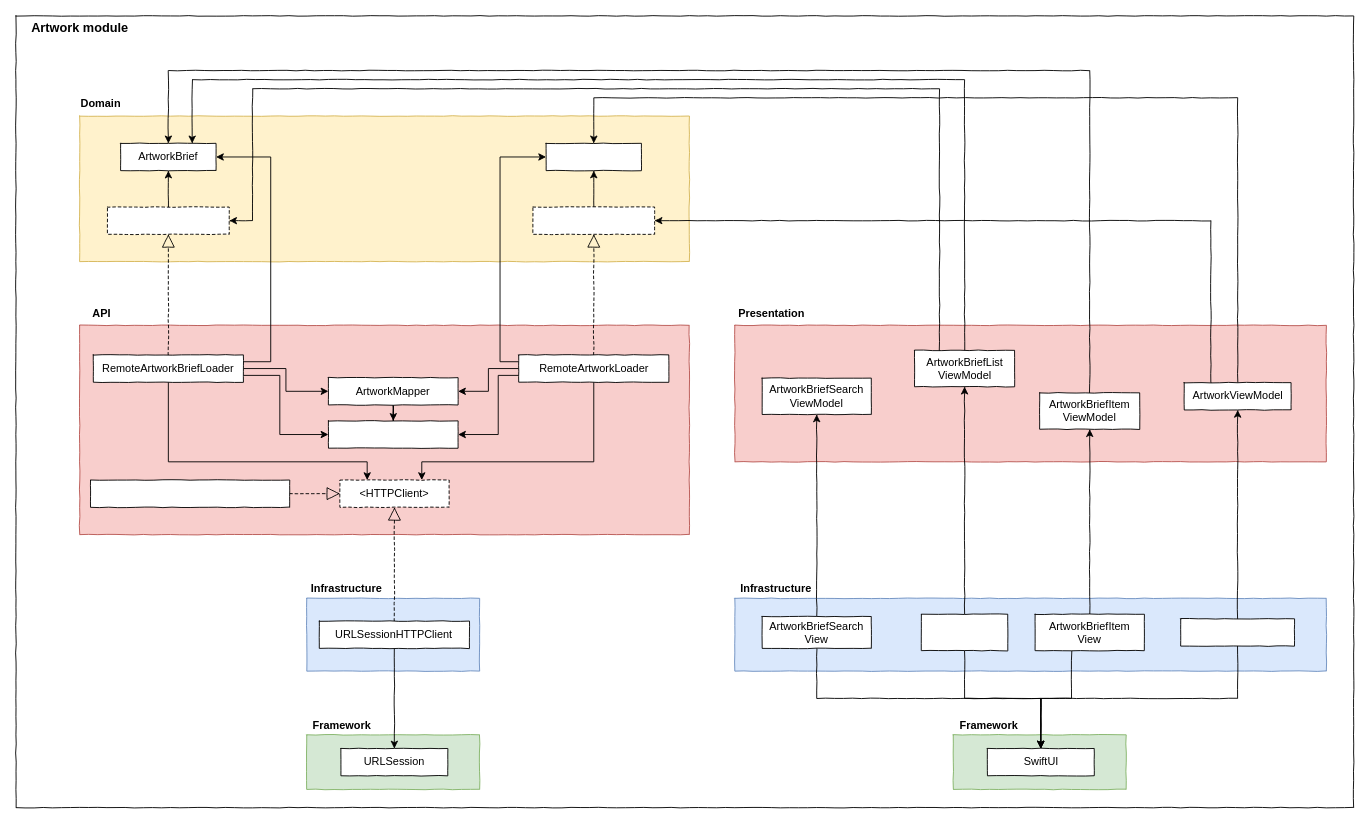
The diagram is 1370 pixels wide and 824 high, and some of its shapes have lost their labels. Each missing label, with the centre of its shape:
<ArtworkBriefLoader>: [168,220]
<ArtworkLoader>: [593,220]
Artwork: [593,156]
ArtworkBriefList View: [964,632]
ArtworkDTOs: [393,434]
ArtworkView: [1237,632]
AuthenticatedHTTPClientDecorator: [190,493]
